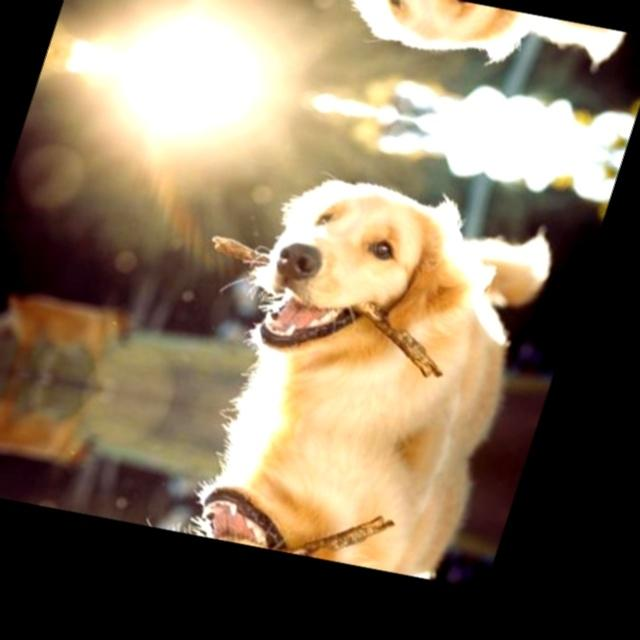dog: (201, 150, 469, 374), (140, 473, 365, 564), (296, 0, 525, 78)
